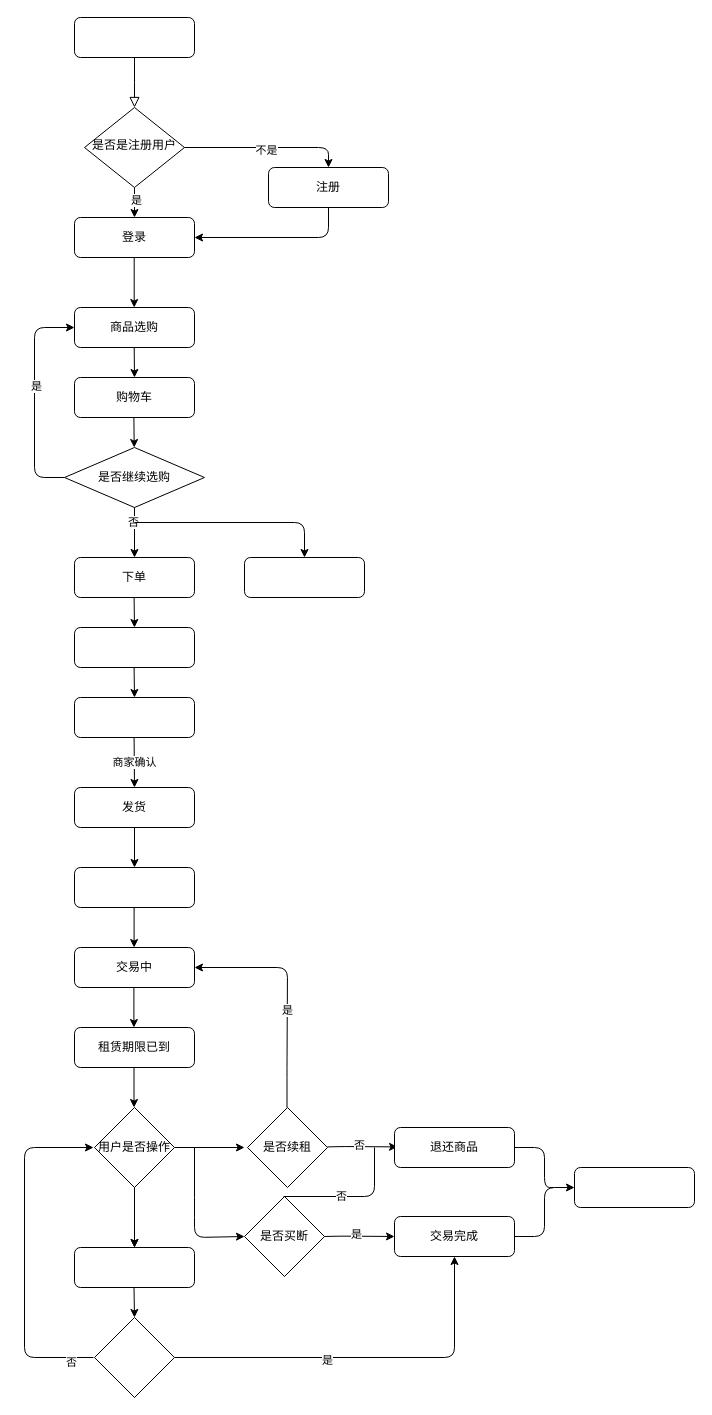
This 712x1415 diagram has some shape labels left out. Each missing label, with the centre of its shape:
下单成功: pixel 134 717
押金扣除: pixel 134 1267
押金是否为0: pixel 134 1357
用户进入: pixel 134 37
确认收货: pixel 134 887
订单地址选择、支付: pixel 134 647
订单评价: pixel 634 1187
退出App: pixel 304 577
